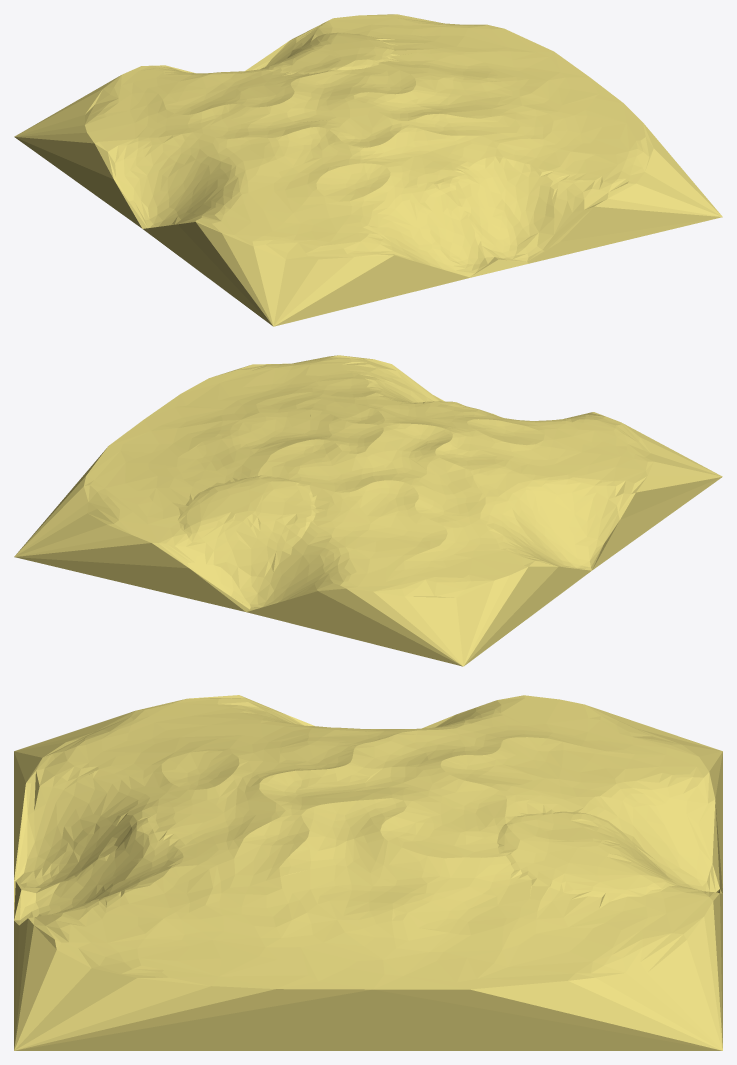
File: spiaggiaA.fbx
3 renders of one model, top to bottom at view 1: azimuth 30°, elevation 25°; view 2: azimuth 150°, elevation 25°; view 3: azimuth 270°, elevation 25°, orthographic. The views are drawn at different scales.
Parts seen in each view (by area): view 1: Spiaggia1; view 2: Spiaggia1; view 3: Spiaggia1.
Part boxes in pixels (x1,y1,x2,y2): Spiaggia1: (14,14,722,326); Spiaggia1: (14,355,722,666); Spiaggia1: (14,695,722,1050).
Bounding box in the file's own units: 6733 × 1046 × 6733.
